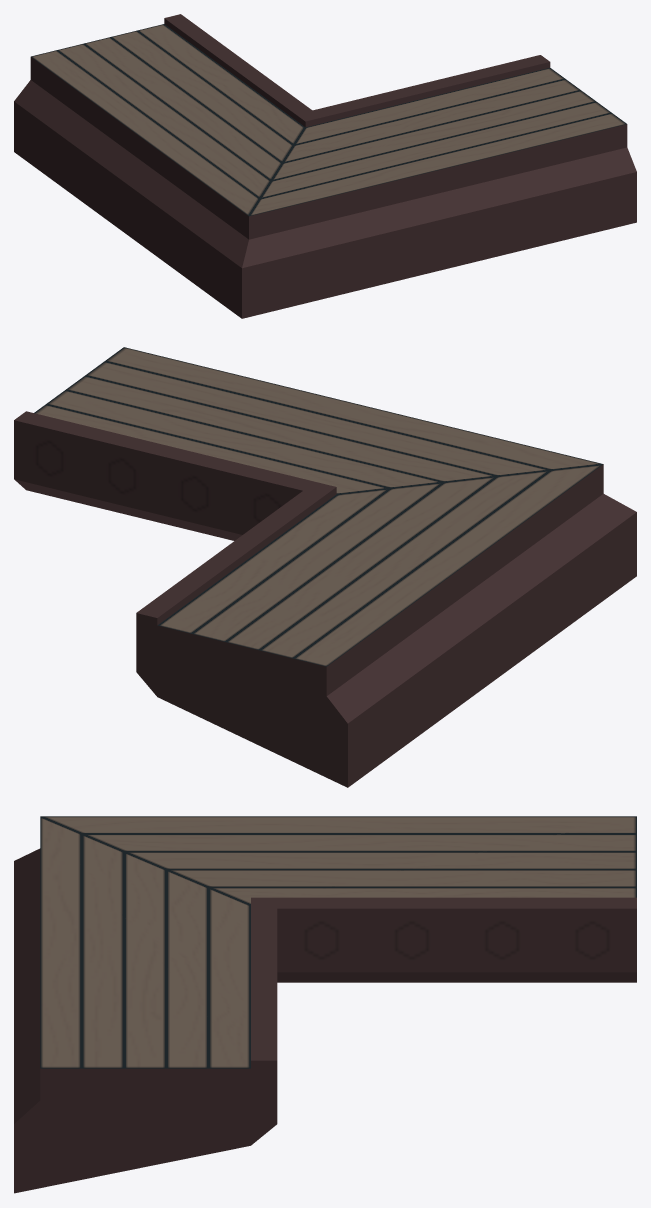
The model's file is SW_ENV_EL_TrackBase_Walkway_Side_Crnr_Internal.fbx.
3 renders of one model, top to bottom at view 1: azimuth 30°, elevation 25°; view 2: azimuth 150°, elevation 25°; view 3: azimuth 270°, elevation 25°, orthographic. The views are drawn at different scales.
Parts seen in each view (by area): view 1: SW_ENV_EL_TrackBase_Walkway_Side_Crnr_Internal; view 2: SW_ENV_EL_TrackBase_Walkway_Side_Crnr_Internal; view 3: SW_ENV_EL_TrackBase_Walkway_Side_Crnr_Internal.
Boxes of the visible parts, x1=… form: SW_ENV_EL_TrackBase_Walkway_Side_Crnr_Internal: x1=14, y1=14, x2=636, y2=318; SW_ENV_EL_TrackBase_Walkway_Side_Crnr_Internal: x1=14, y1=347, x2=636, y2=787; SW_ENV_EL_TrackBase_Walkway_Side_Crnr_Internal: x1=14, y1=816, x2=636, y2=1193.
Size of the model in its own units: 355 by 83.5 by 355.
